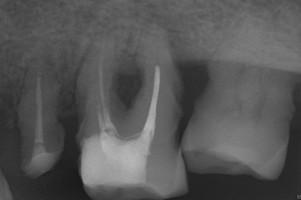Endo-Periodontal Lesion: (113, 48, 142, 107)
